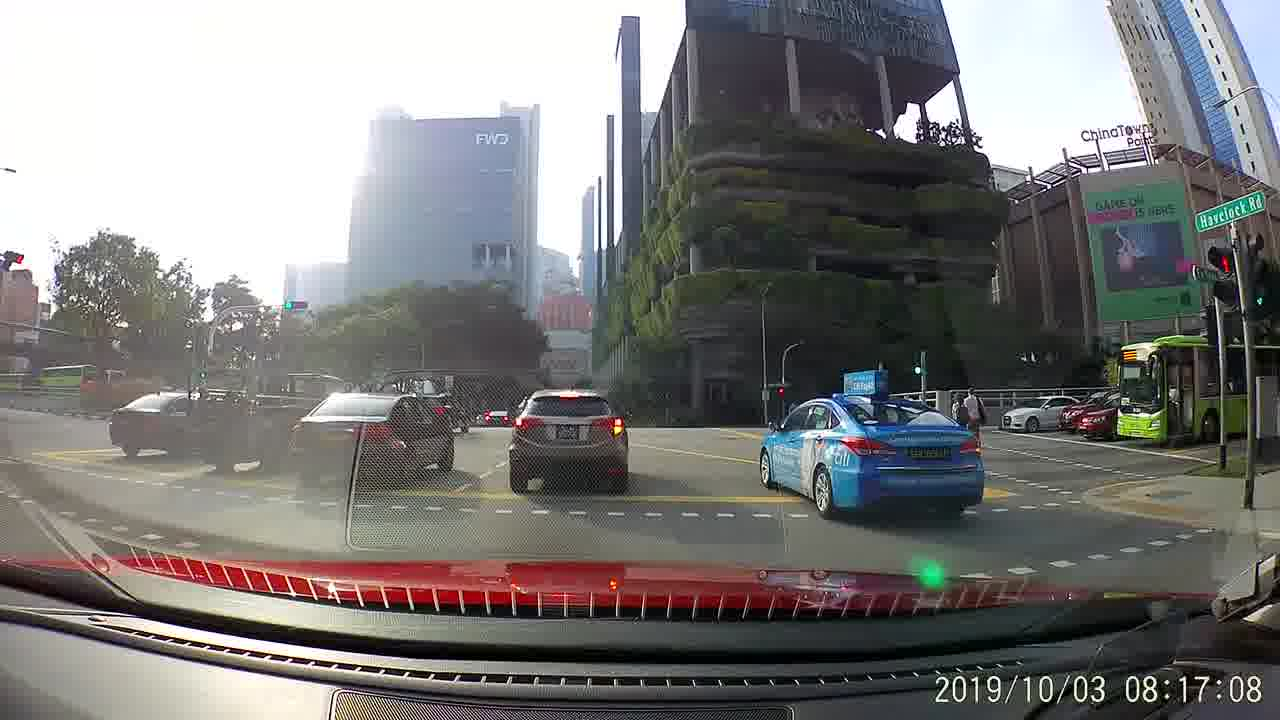bus: (1117, 337, 1279, 443), (38, 365, 96, 390)
car: (757, 367, 986, 518), (291, 385, 460, 493), (505, 385, 635, 497), (113, 385, 203, 457), (1003, 395, 1082, 429), (1063, 391, 1113, 430), (482, 403, 514, 427)
